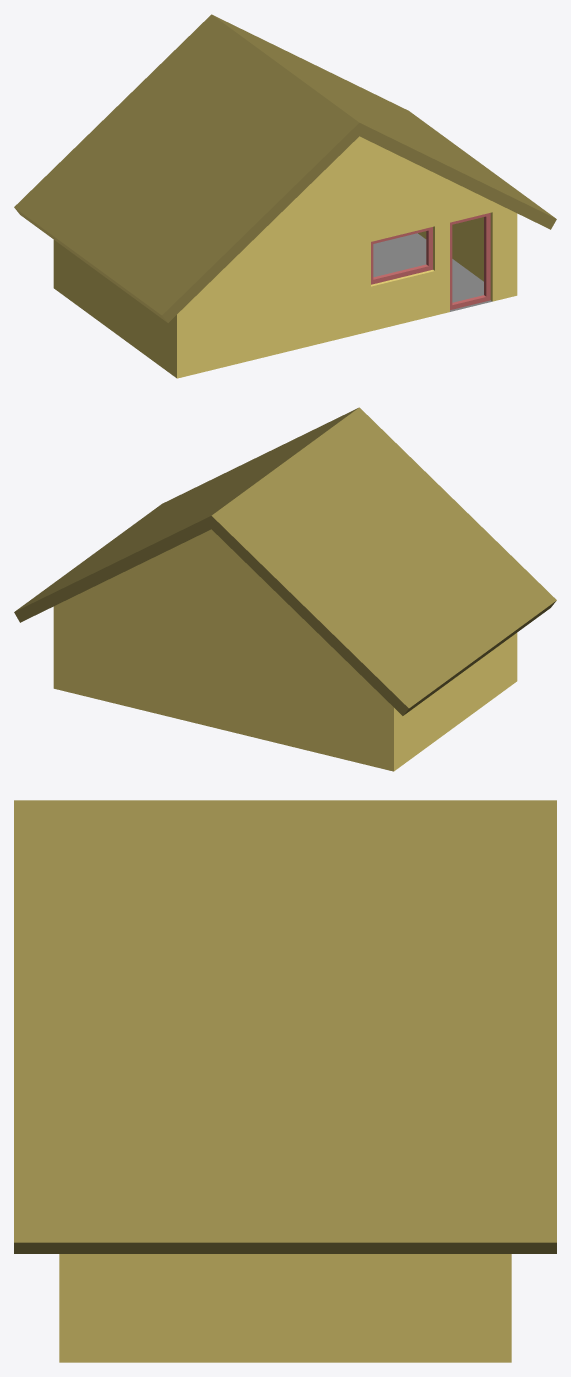
File: result.glb
3 renders of one model, top to bottom at view 1: azimuth 30°, elevation 25°; view 2: azimuth 150°, elevation 25°; view 3: azimuth 270°, elevation 25°, orthographic. The views are drawn at different scales.
Visible parts, largest first — view 1: aaff0a9a-b2ae-474d-8526-10e9455c3a15__undefined (×2), ccde3f84-828a-4938-aae4-7e9021e78eb9__undefined, 2ea28a70-bf8e-47c7-bf94-6d2bf3f240b7__Plane_6, 41b7087d-c21a-455e-9da2-4ca8f67ab4f4__Box, 1a5b8685-9984-46b6-91b7-b18b66c6727b__Box_3; view 2: aaff0a9a-b2ae-474d-8526-10e9455c3a15__undefined (×2), ccde3f84-828a-4938-aae4-7e9021e78eb9__undefined; view 3: aaff0a9a-b2ae-474d-8526-10e9455c3a15__undefined, ccde3f84-828a-4938-aae4-7e9021e78eb9__undefined.
Part boxes in pixels (bbox=[...]): aaff0a9a-b2ae-474d-8526-10e9455c3a15__undefined (×2): bbox=[14, 14, 556, 322]; ccde3f84-828a-4938-aae4-7e9021e78eb9__undefined: bbox=[53, 136, 517, 378]; 2ea28a70-bf8e-47c7-bf94-6d2bf3f240b7__Plane_6: bbox=[373, 233, 491, 311]; 41b7087d-c21a-455e-9da2-4ca8f67ab4f4__Box: bbox=[450, 213, 490, 309]; 1a5b8685-9984-46b6-91b7-b18b66c6727b__Box_3: bbox=[371, 227, 432, 284]; aaff0a9a-b2ae-474d-8526-10e9455c3a15__undefined (×2): bbox=[14, 407, 556, 715]; ccde3f84-828a-4938-aae4-7e9021e78eb9__undefined: bbox=[53, 529, 517, 771]; aaff0a9a-b2ae-474d-8526-10e9455c3a15__undefined: bbox=[14, 800, 556, 1253]; ccde3f84-828a-4938-aae4-7e9021e78eb9__undefined: bbox=[59, 1254, 511, 1362].
Bounding box in the file's own units: 925 × 500 × 600.
